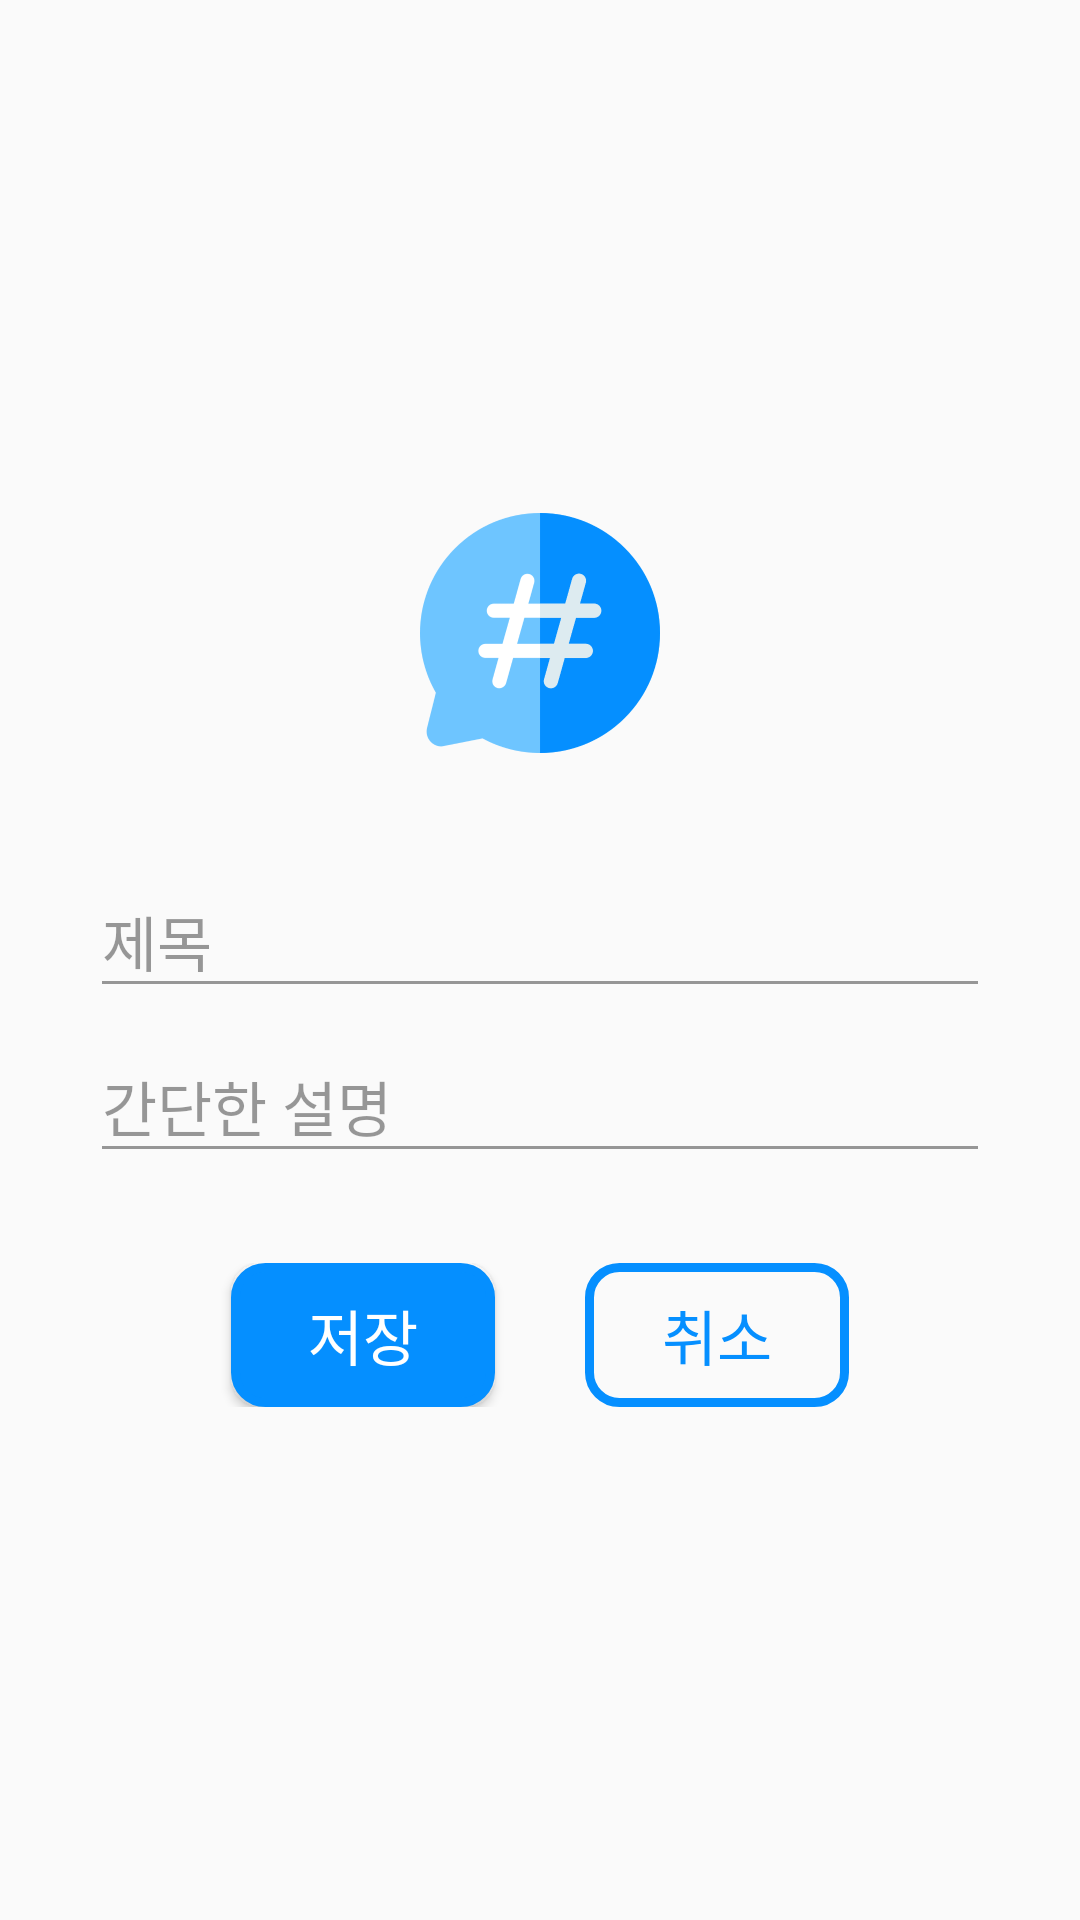

Icon click points for this 1080 × 1920 phone screenshot, format (x,y):
hastag: (540,633)
